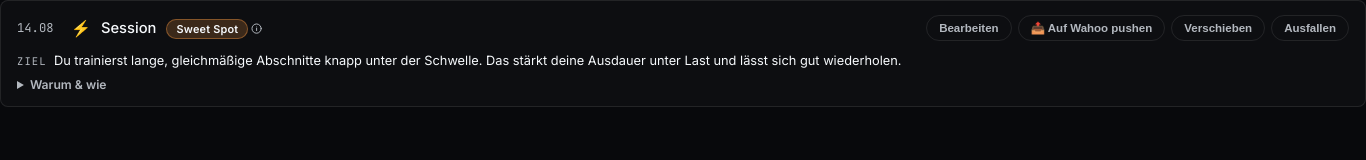
Test: WeekGridDetailRow — Verschieben/Ausfallen/Push-Verdrahtung › Push › zeigt einen Hinweis statt zu pushen, wenn keine Zugangsdaten hinterlegt sind
Click the button "📤 Auf Wahoo pushen": [1092, 28] box top-left (1018, 15), bottom-right (1165, 41)
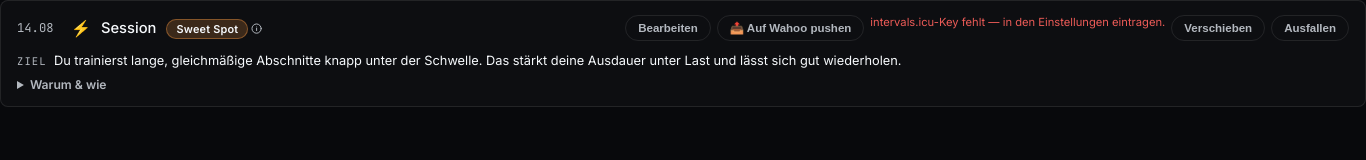
Expected: the text "intervals.icu-Key fehlt — in den Einstellungen eintragen." is shown, top-left (870, 15), bottom-right (1165, 29)
